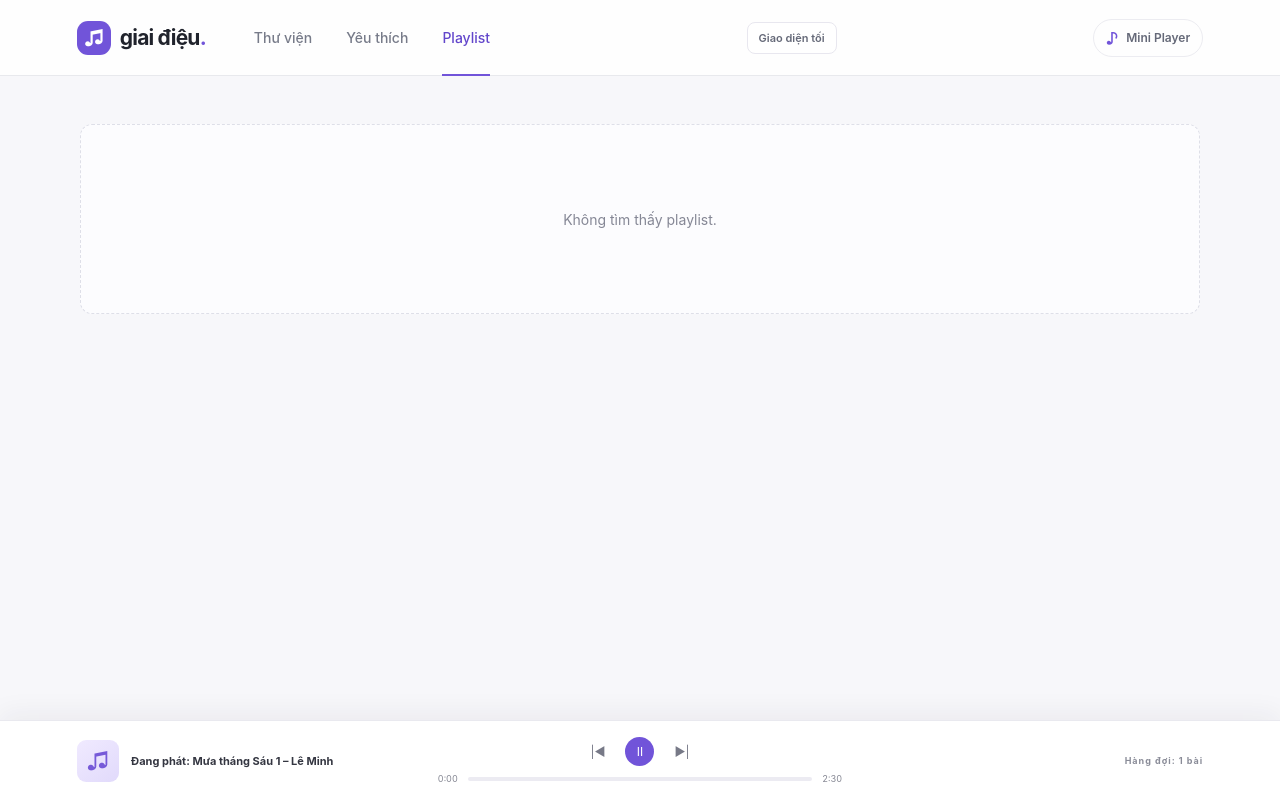
Test case: Ứng dụng trình phát nhạc › chuyển đổi giữa giao diện sáng và tối
This screenshot has width=1280, height=800.
Click the button "Giao diện tối": (792, 38) top-left (746, 22), bottom-right (836, 54)
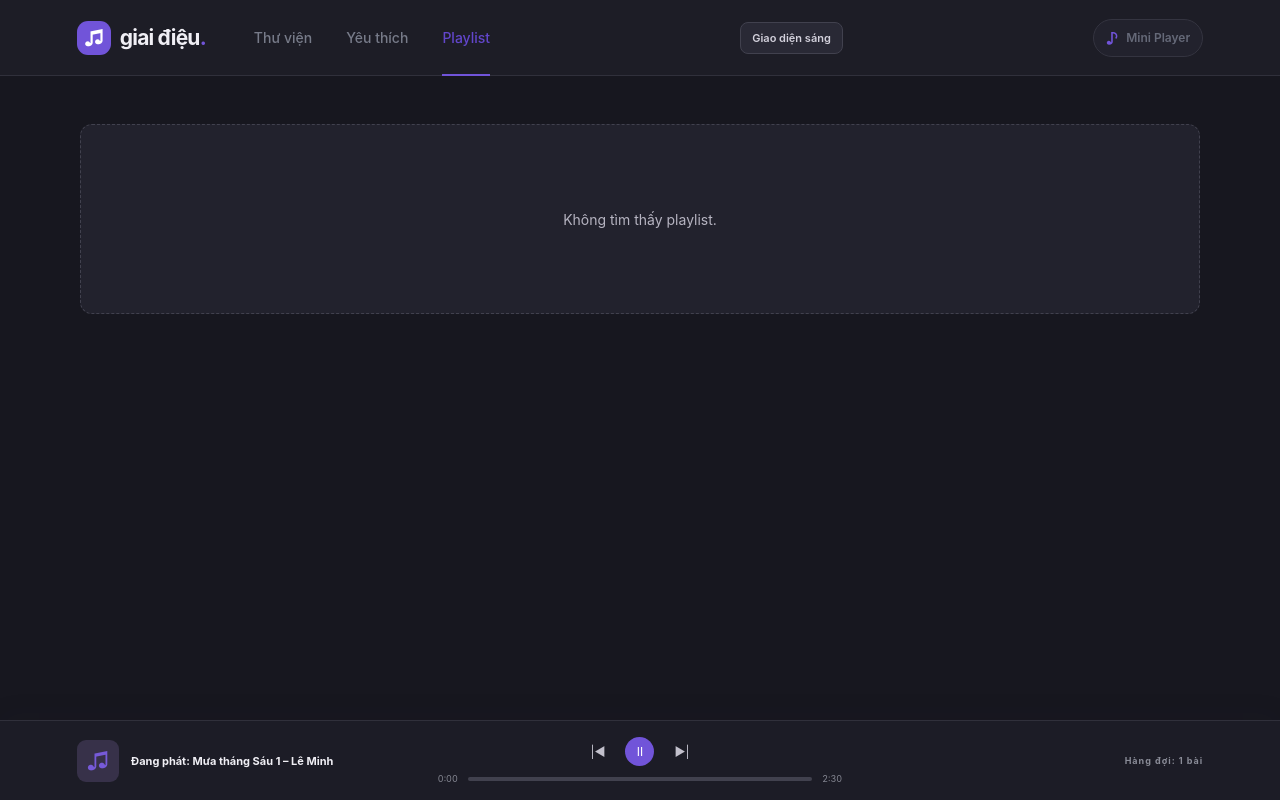
Check: the button "Giao diện sáng" is shown, box top-left (740, 22), bottom-right (843, 54)
